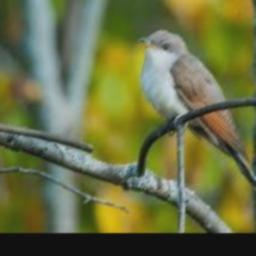Cuckoo: (139, 30, 256, 219)
